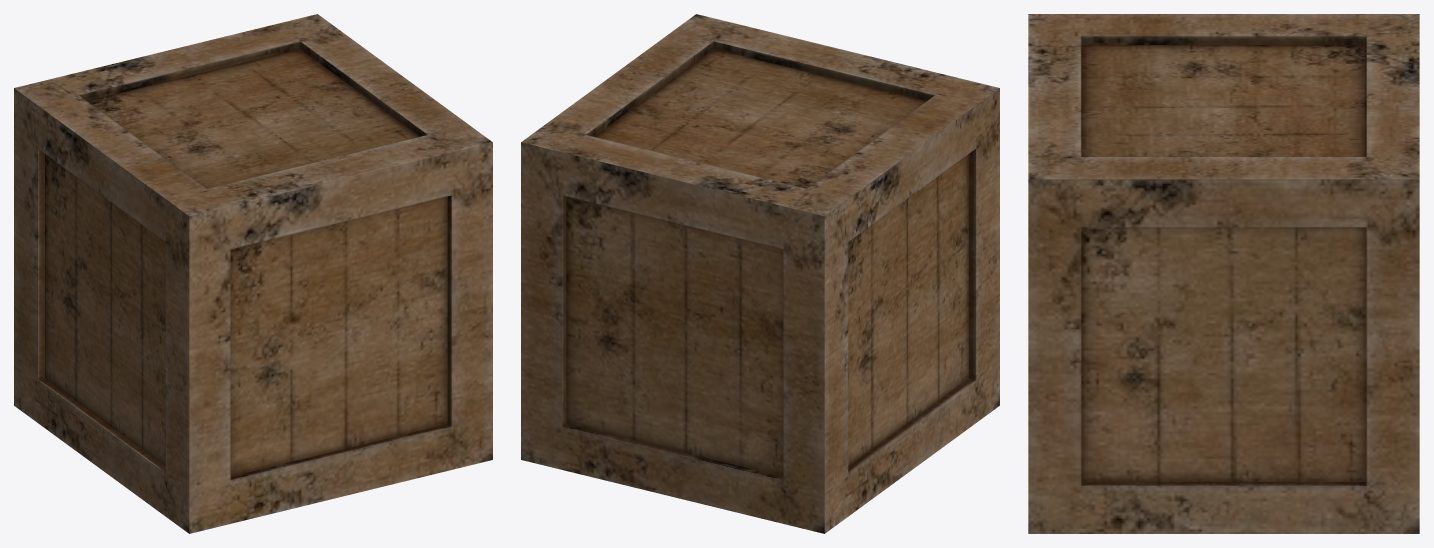
Rendered from Wooden Box.fbx.
3 views of the same model, side by side, from view 1: azimuth 30°, elevation 25°; view 2: azimuth 150°, elevation 25°; view 3: azimuth 270°, elevation 25° (orthographic). The views are drawn at different scales.
Parts seen in each view (by area): view 1: Wooden Box; view 2: Wooden Box; view 3: Wooden Box.
Part boxes in pixels (x1=…): Wooden Box: x1=14, y1=14, x2=492, y2=533; Wooden Box: x1=521, y1=14, x2=999, y2=533; Wooden Box: x1=1028, y1=14, x2=1419, y2=533.
Size of the model in its own units: 21 by 21 by 21.
1 material, 1 textured.
